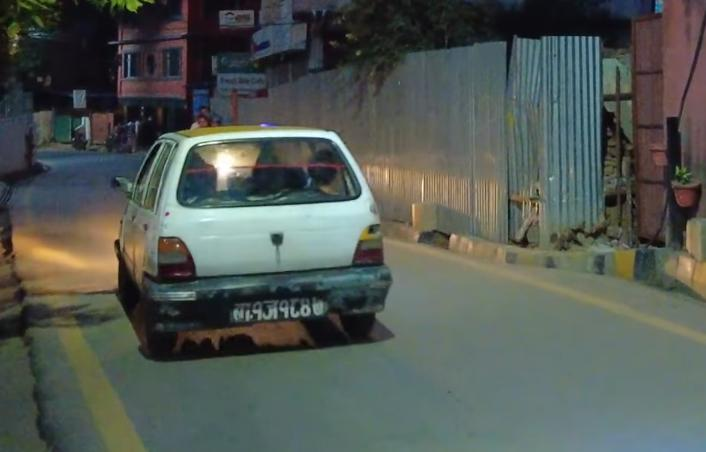car: (108, 119, 409, 364)
